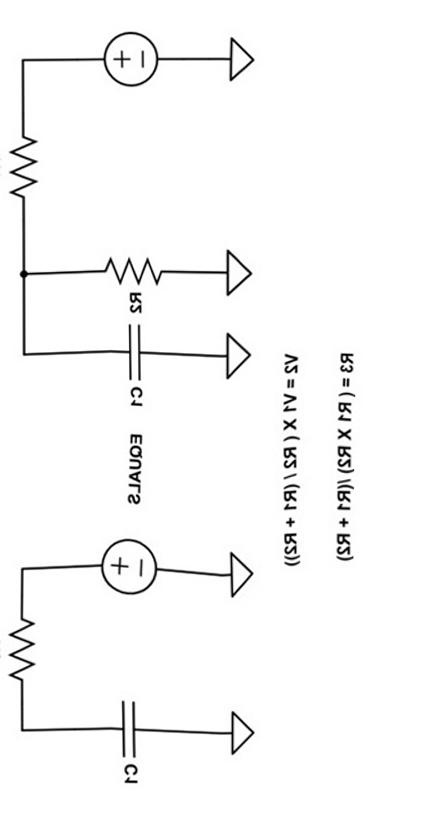Battery: (73, 524, 173, 611), (86, 13, 171, 107)
